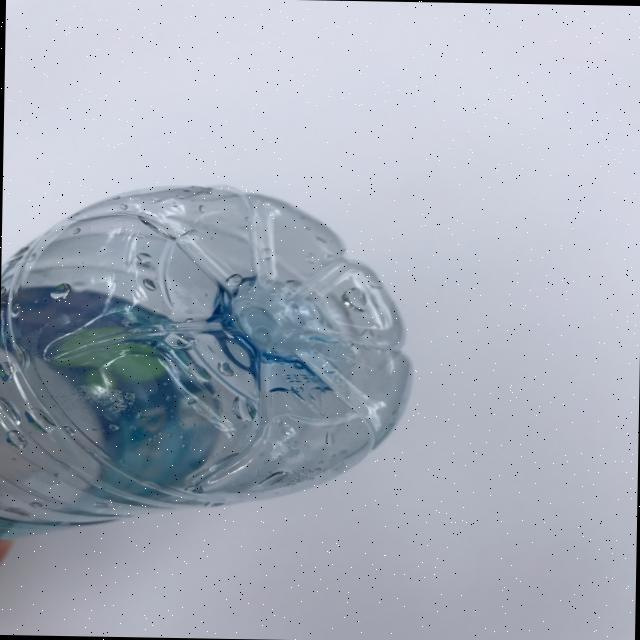plastic: (0, 178, 415, 546)
